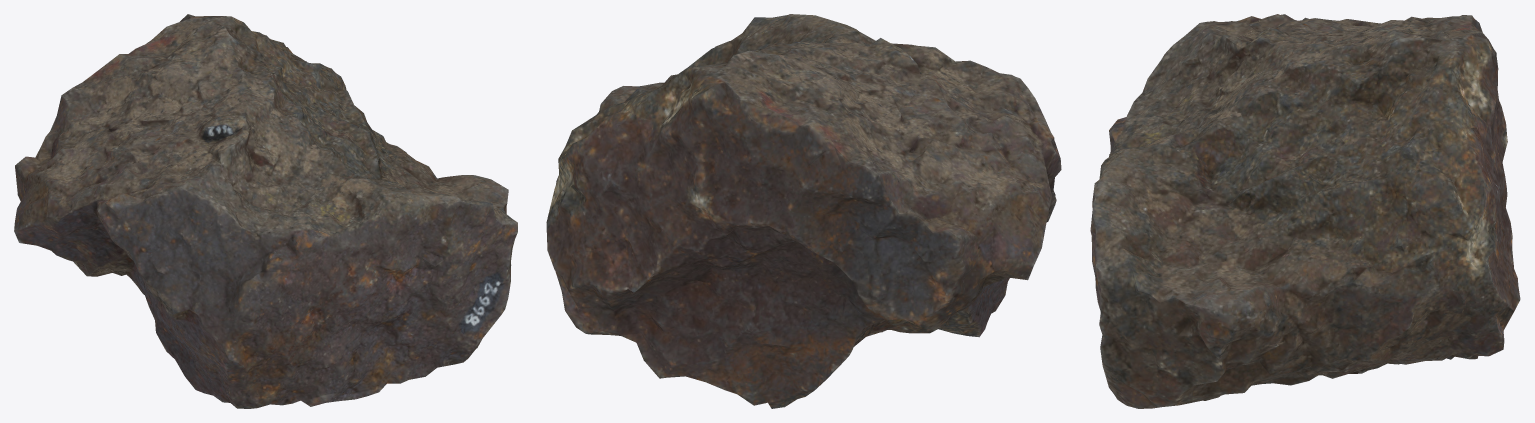
File: magnetite.glb
3 renders of one model, left to right at view 1: azimuth 30°, elevation 25°; view 2: azimuth 150°, elevation 25°; view 3: azimuth 270°, elevation 25°, orthographic. The views are drawn at different scales.
Parts seen in each view (by area): view 1: Object_2; view 2: Object_2; view 3: Object_2.
Boxes of the visible parts, box(x1,y1,x2,y2) form: Object_2: box(14, 14, 517, 408); Object_2: box(546, 14, 1061, 408); Object_2: box(1090, 14, 1520, 408).
Size of the model in its own units: 0.3375 by 0.216 by 0.259.
Materials: 1 (1 with a texture image).
